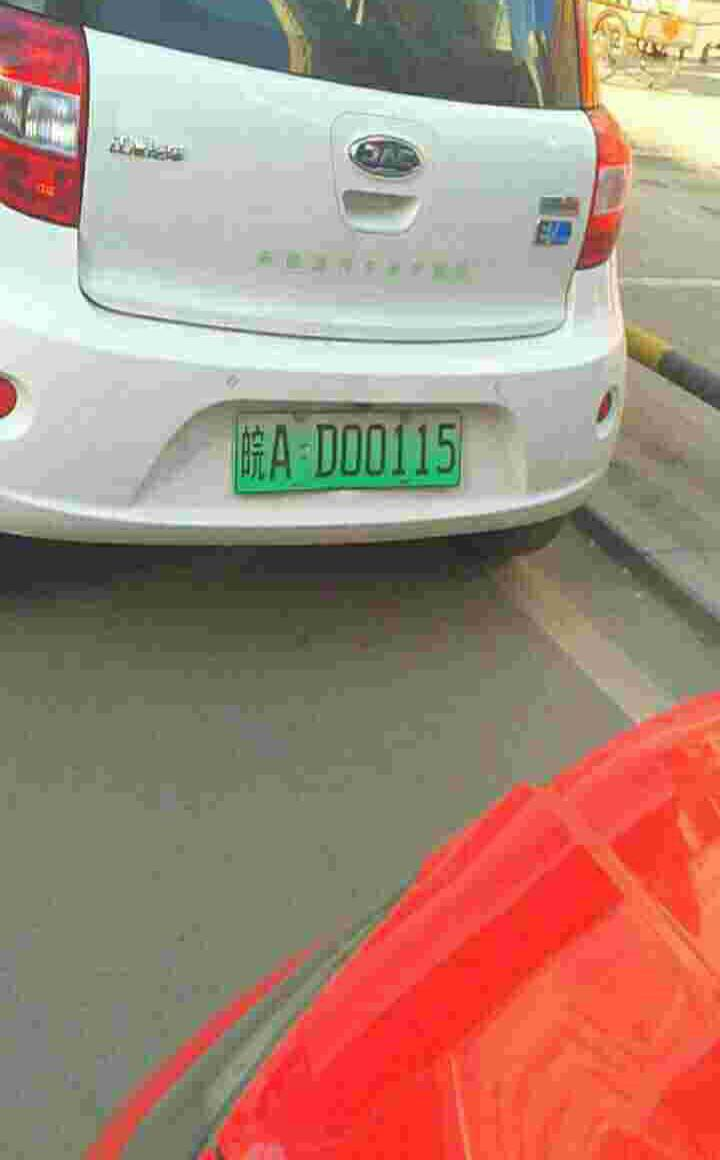car: (239, 406, 464, 494)
